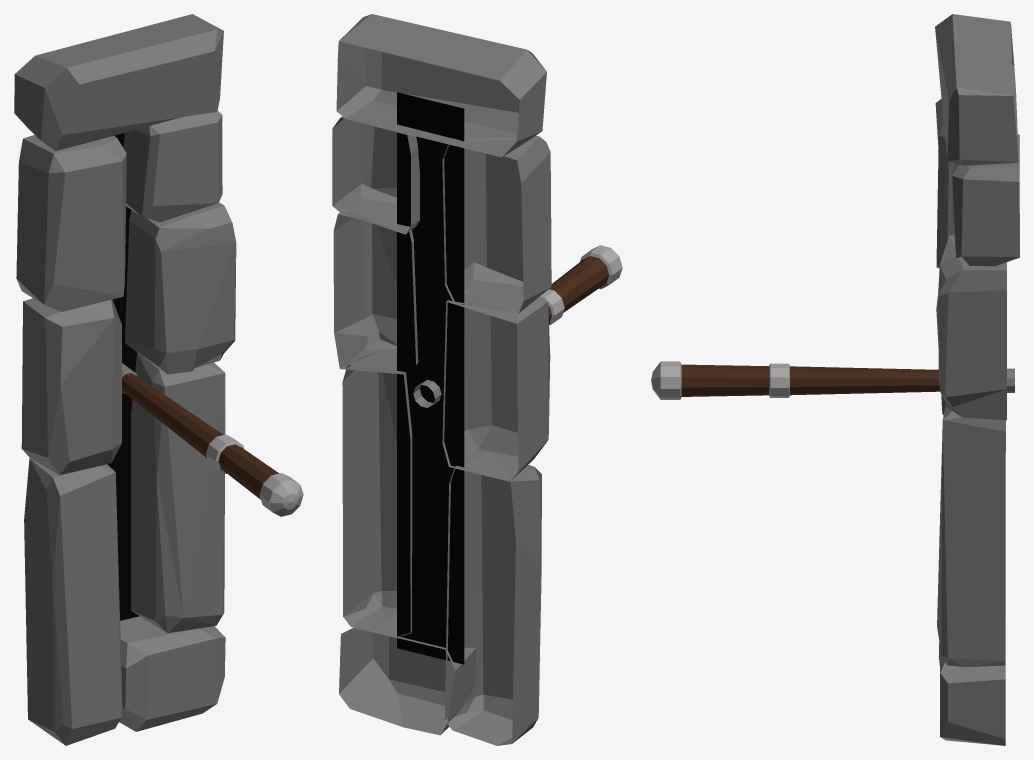
Rendered from StoneWallLever_2.fbx.
3 views of the same model, side by side, from view 1: azimuth 30°, elevation 25°; view 2: azimuth 150°, elevation 25°; view 3: azimuth 270°, elevation 25° (orthographic). The views are drawn at different scales.
Parts seen in each view (by area): view 1: StoneWallLever_2_Casing, StoneWallLever_2_Handle; view 2: StoneWallLever_2_Casing, StoneWallLever_2_Handle; view 3: StoneWallLever_2_Casing, StoneWallLever_2_Handle.
Boxes of the visible parts, x1,y1,x2,y2 form: StoneWallLever_2_Casing: (14, 14, 236, 745); StoneWallLever_2_Handle: (122, 363, 303, 516); StoneWallLever_2_Casing: (332, 14, 551, 745); StoneWallLever_2_Handle: (413, 245, 622, 407); StoneWallLever_2_Casing: (935, 14, 1019, 745); StoneWallLever_2_Handle: (651, 361, 1014, 399).
Bounding box in the file's own units: 31.41 × 108 × 54.19.
